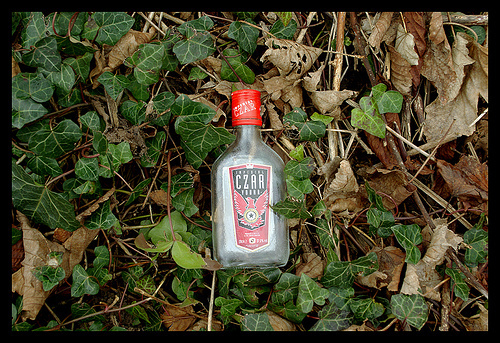litter: (208, 87, 290, 268)
